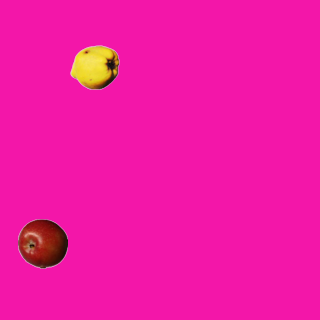Apple Braeburn: (17, 218, 67, 268)
Quince: (69, 42, 119, 92)
